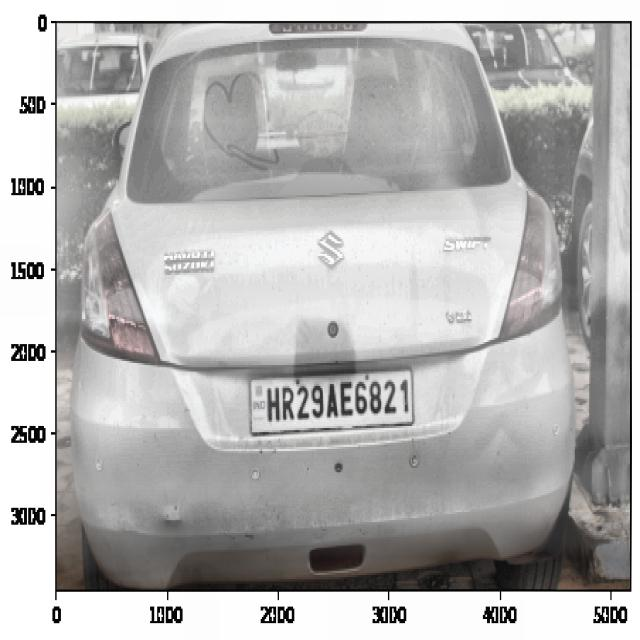license_plate: (262, 373, 416, 429)
